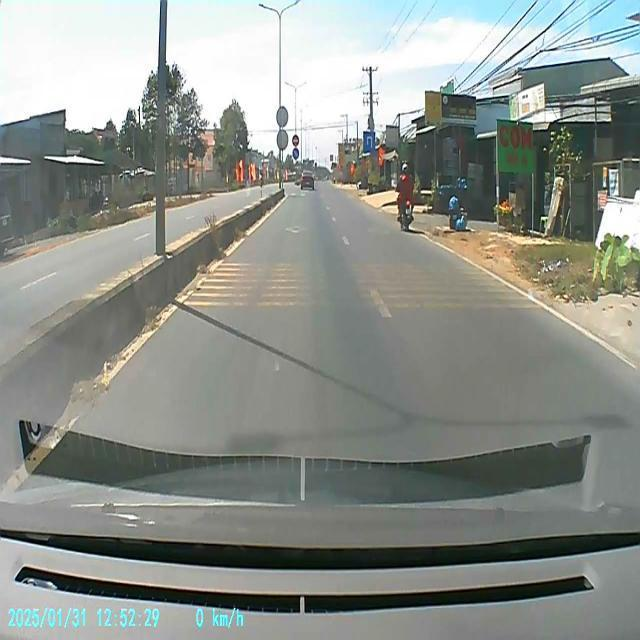102-cam-di-nguoc-chieu: (292, 133, 300, 147)
302a-huong-phai-di-vong-chuong-ngai-vat-1: (292, 148, 300, 160)
